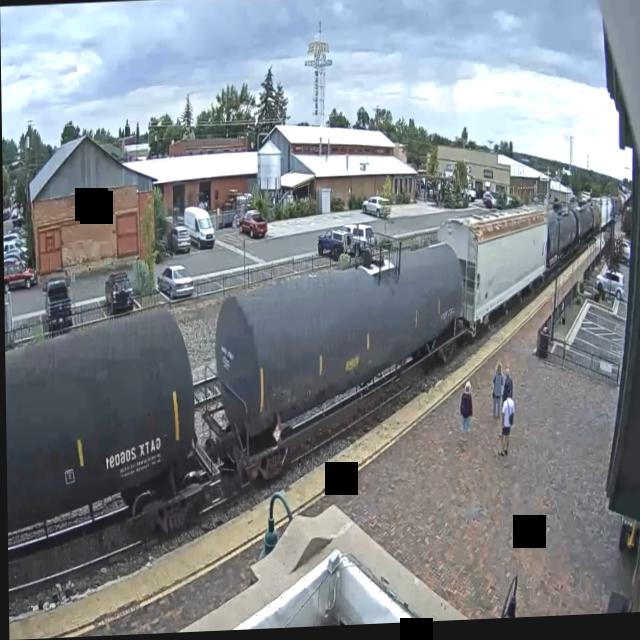hopper: (431, 200, 554, 339)
tank: (200, 230, 471, 505), (4, 294, 204, 577)
